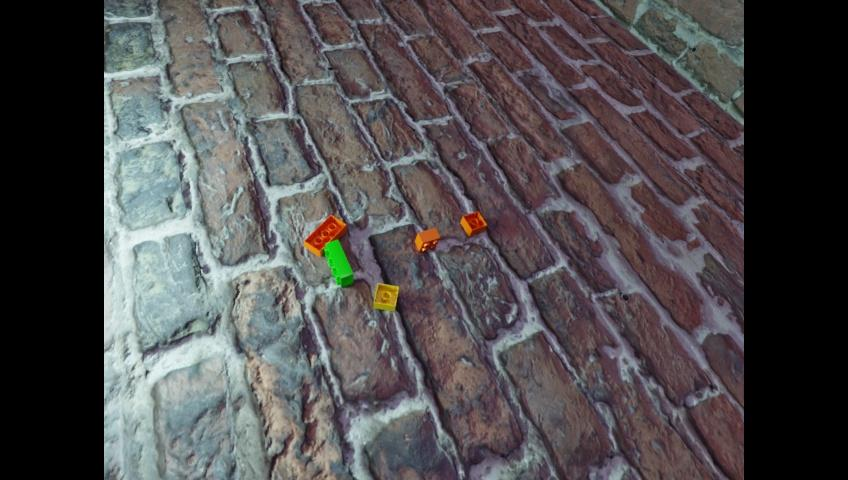2x2_orange: (460, 210, 486, 237), (415, 227, 439, 251)
2x2_yellow: (373, 283, 399, 312)
4x2_green: (323, 239, 352, 287)
4x2_orange: (303, 214, 345, 257)
